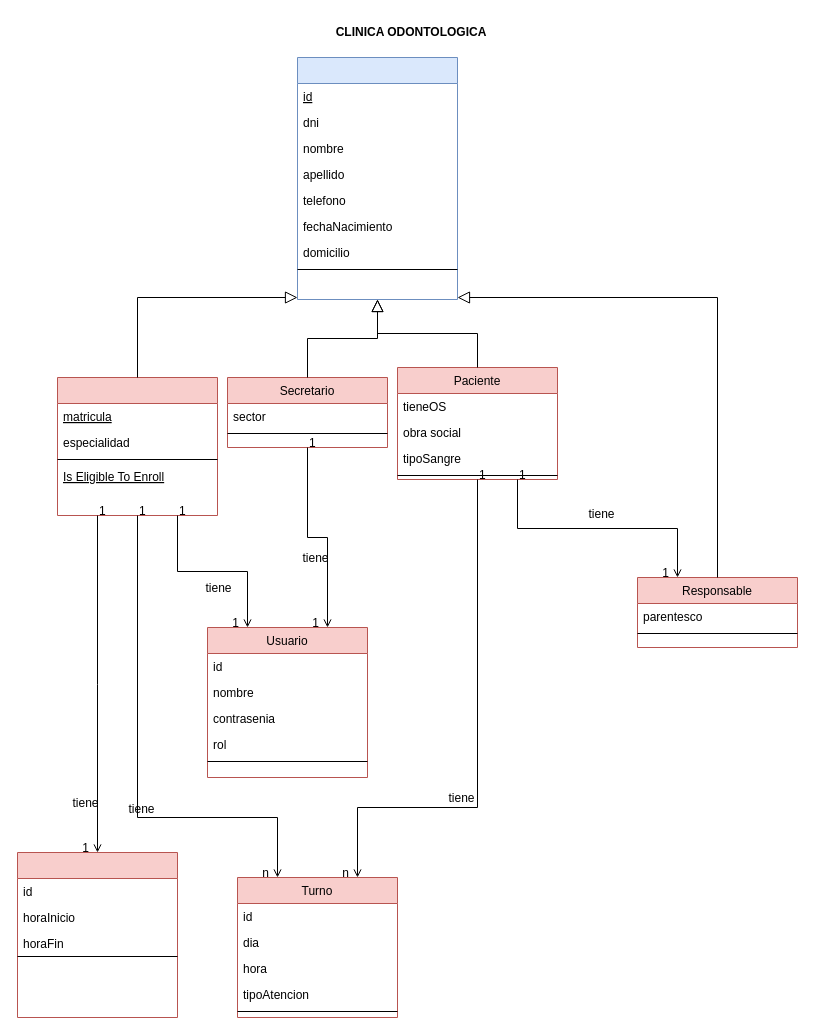
Image size: 815x1035. Some labels were removed from this diagram. The box of each missing label's shape, as (x1, y1, x2, y2) in pixels:
Horario: (16, 852, 178, 1018)
Odontologo: (56, 376, 218, 516)
Persona: (296, 56, 458, 300)
